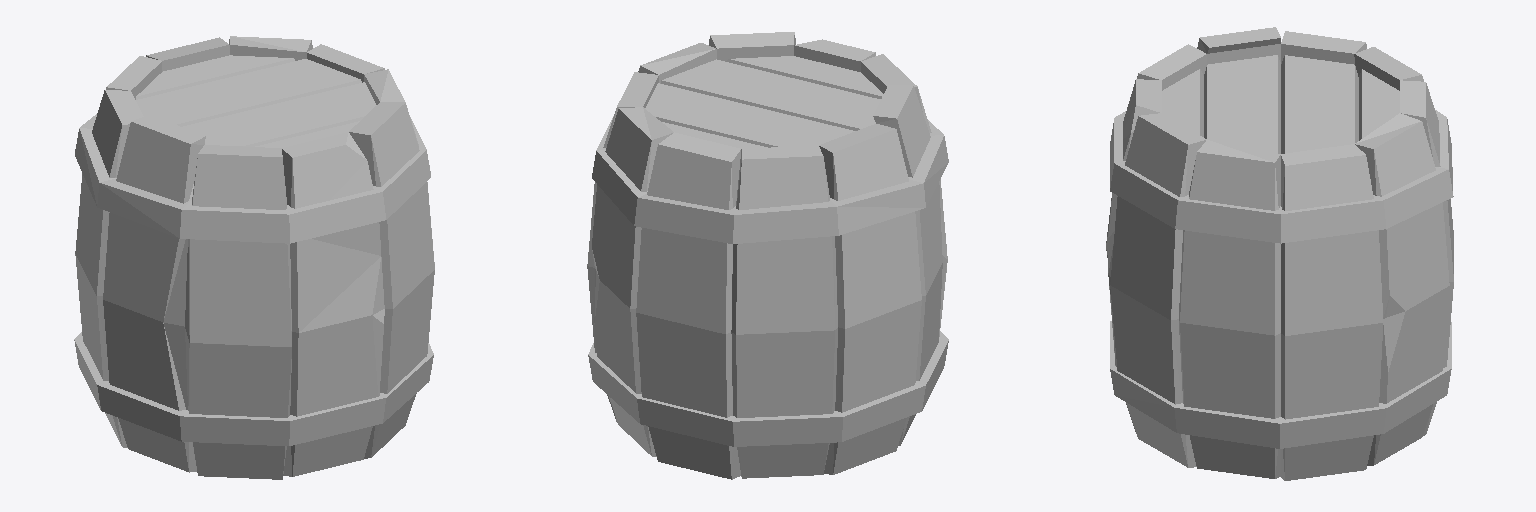
The model's file is Barrel.obj.
3 renders of one model, left to right at view 1: azimuth 30°, elevation 25°; view 2: azimuth 150°, elevation 25°; view 3: azimuth 270°, elevation 25°, orthographic.
Visible parts, largest first — view 1: Barrel; view 2: Barrel; view 3: Barrel.
Part boxes in pixels (left/top/right/bottom): Barrel: left=74, top=36, right=434, bottom=479; Barrel: left=587, top=32, right=948, bottom=479; Barrel: left=1106, top=27, right=1453, bottom=480.
Bounding box in the file's own units: 0.7443 × 0.7497 × 0.7087.